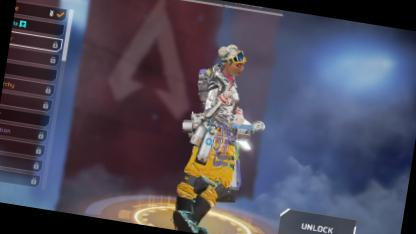Target: (176, 32, 254, 204)
